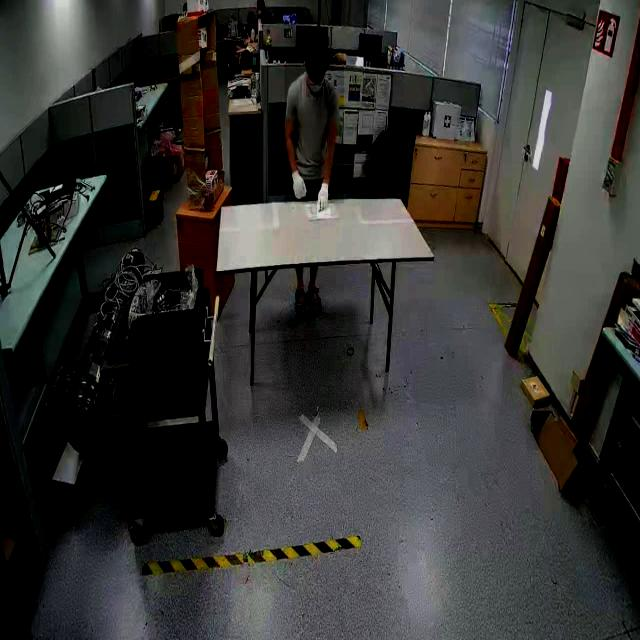face_mask: (306, 66, 322, 98)
hand_glove: (289, 164, 309, 202), (316, 180, 331, 218)
head_nohelmet: (306, 36, 330, 66)
person: (284, 50, 344, 204)
